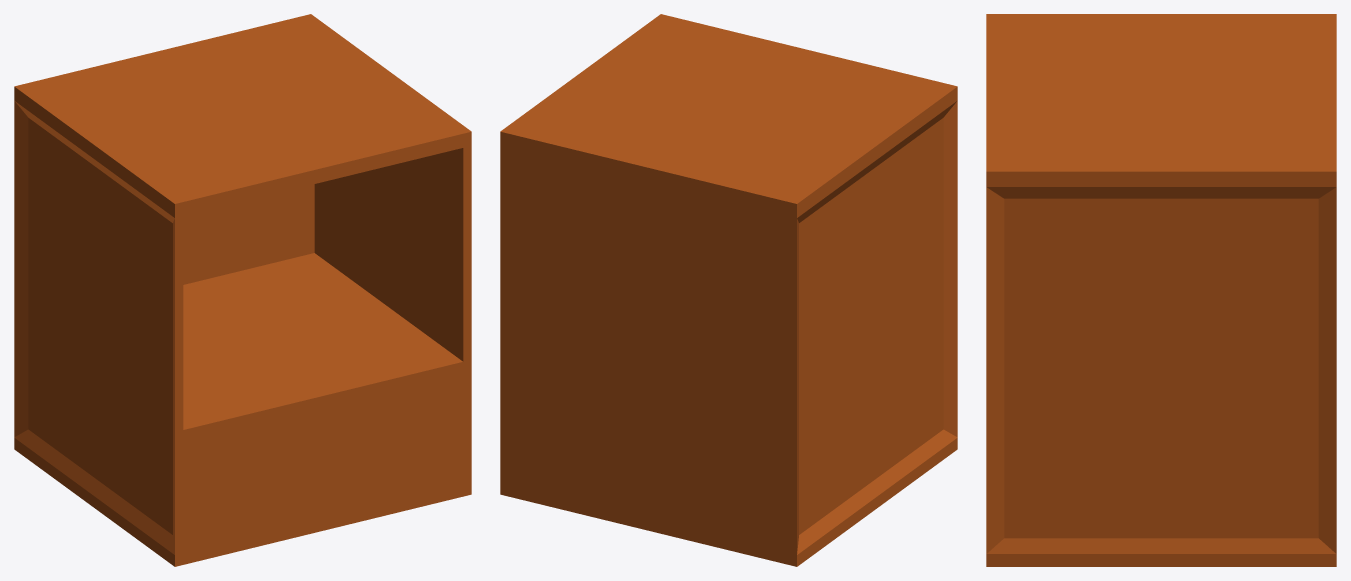
The model's file is MesaSinCajon.fbx.
3 renders of one model, left to right at view 1: azimuth 30°, elevation 25°; view 2: azimuth 150°, elevation 25°; view 3: azimuth 270°, elevation 25°, orthographic. The views are drawn at different scales.
Parts seen in each view (by area): view 1: MesaNocheSinCajon; view 2: MesaNocheSinCajon; view 3: MesaNocheSinCajon.
Part boxes in pixels (x1,y1,x2,y2): MesaNocheSinCajon: (14,14,471,566); MesaNocheSinCajon: (500,14,957,566); MesaNocheSinCajon: (986,14,1336,566).
Size of the model in its own units: 0.5276 by 0.6163 by 0.4947.
